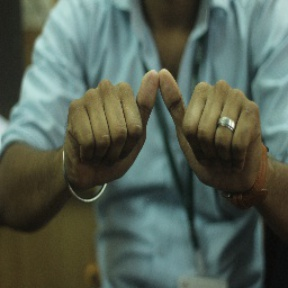A: (82, 60, 246, 185)
